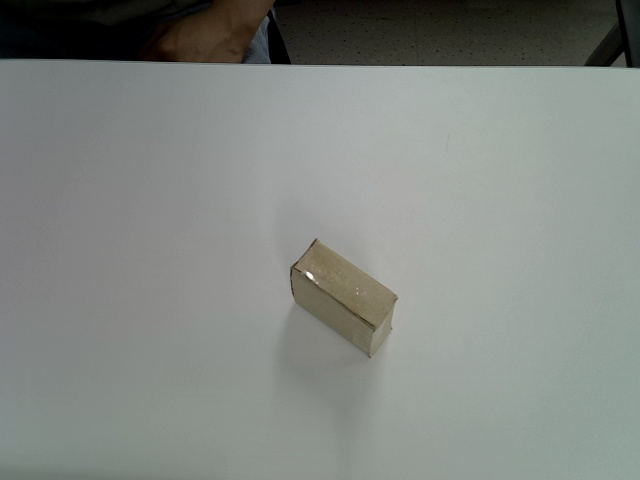normal: (290, 238, 397, 358)
